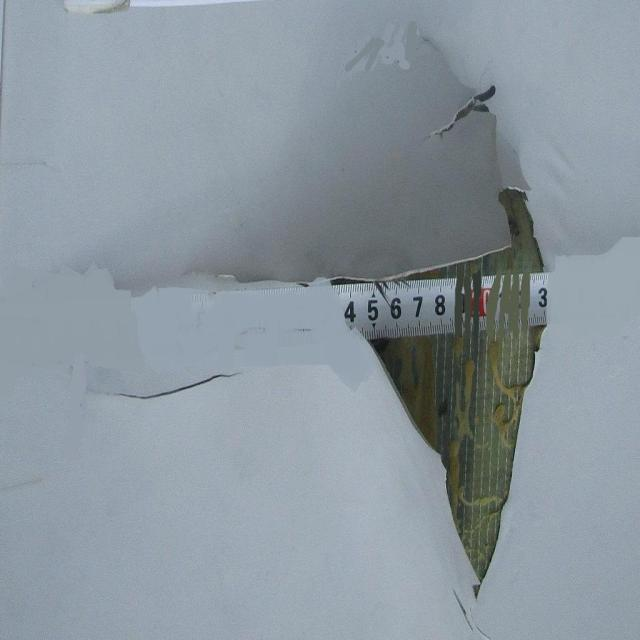crack: (312, 84, 574, 625)
